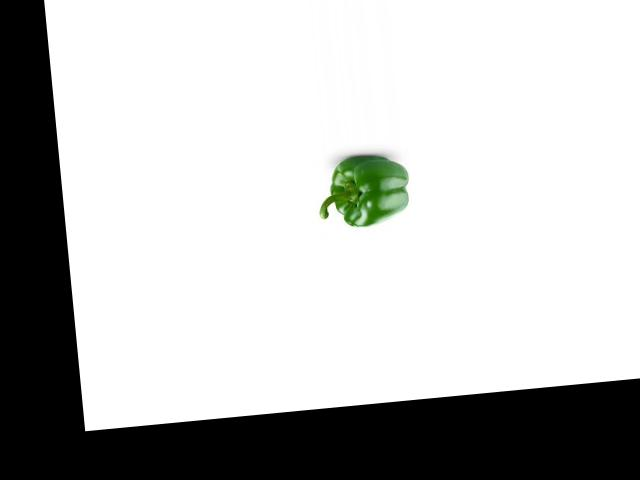bell_pepper: (312, 152, 415, 231)
